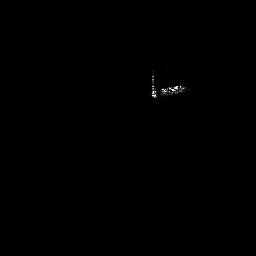ship: (151, 84, 185, 99)
